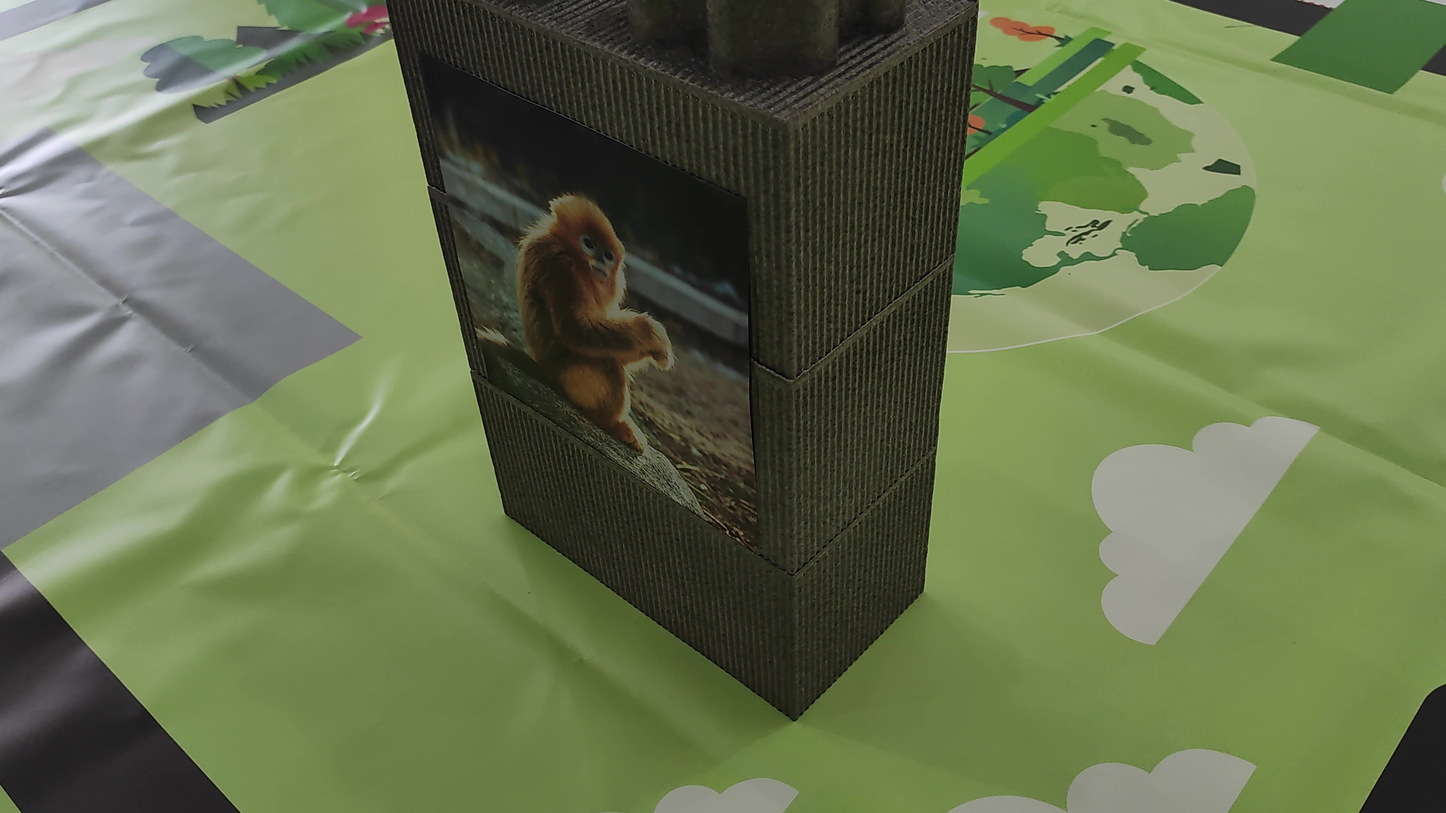monkey: (467, 140, 705, 449)
